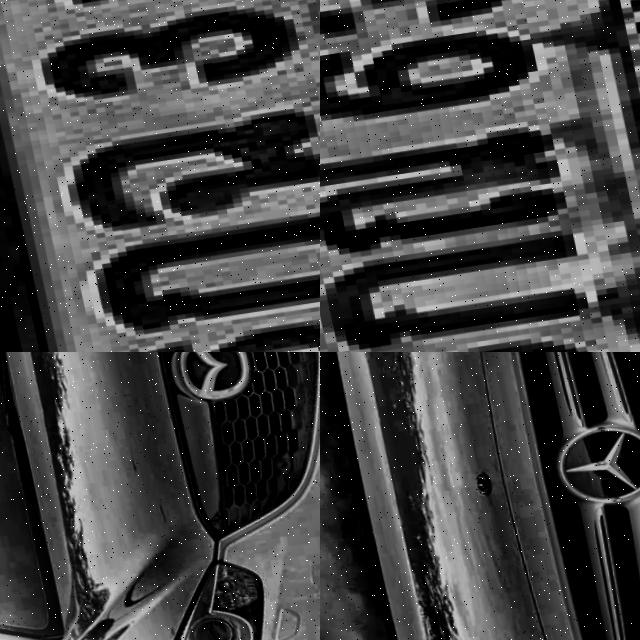license-plate: (0, 0, 320, 352), (320, 0, 640, 352)
